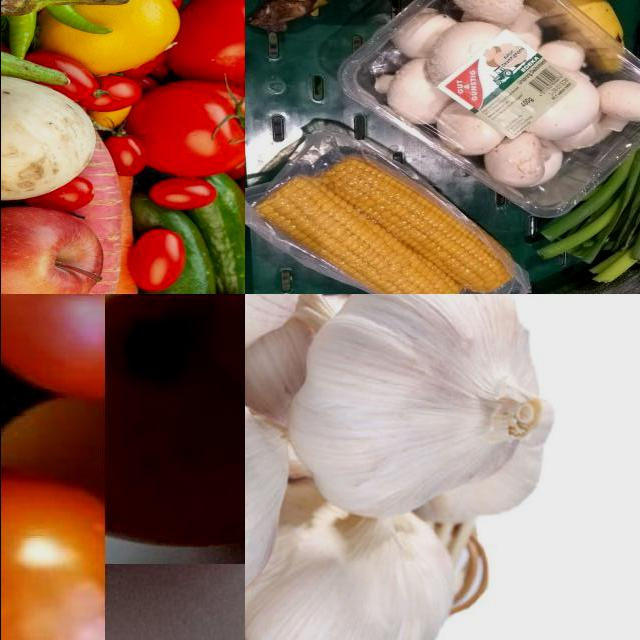cucumber: (205, 180, 245, 295), (152, 212, 207, 295)
eggplant: (1, 1, 56, 93)
garlic: (293, 295, 542, 519), (245, 482, 454, 640), (245, 360, 293, 606)
tomato: (1, 473, 105, 640), (1, 295, 105, 409), (135, 83, 245, 179), (172, 1, 245, 86)
